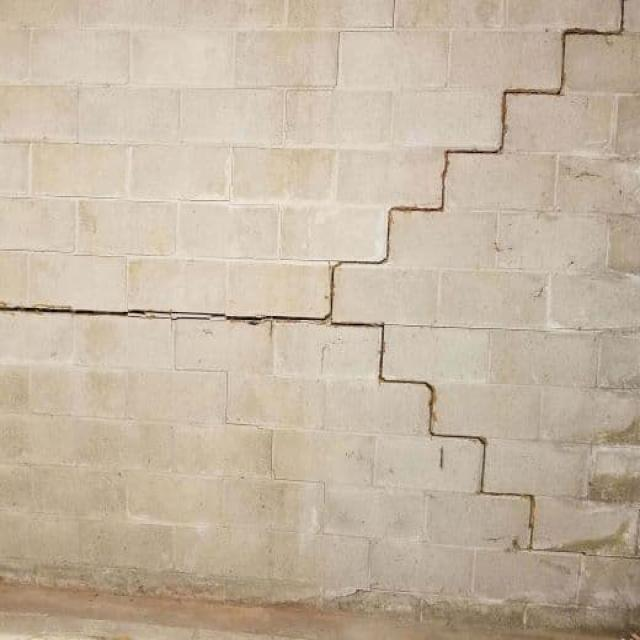Crack: (319, 0, 624, 320), (330, 317, 639, 560), (0, 301, 329, 323)
